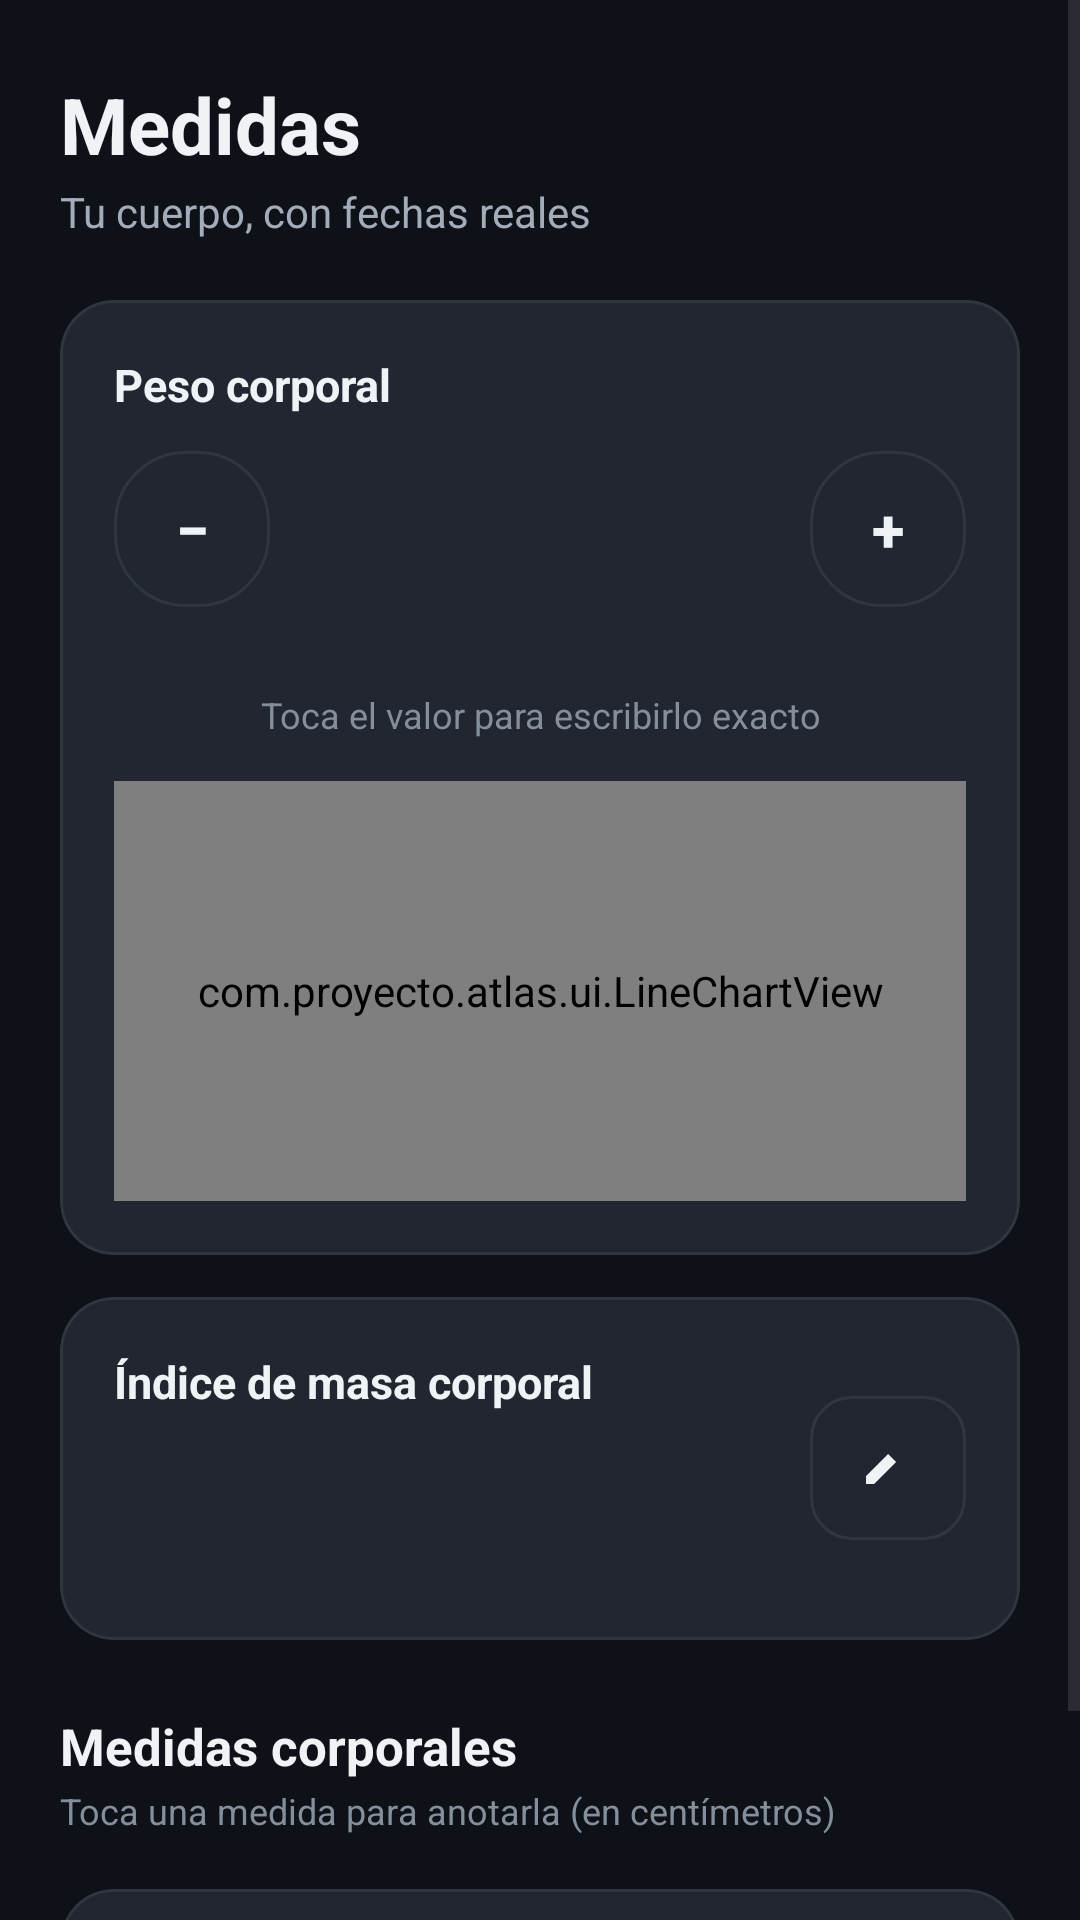

Icons on this 1080*1920 Android screen, each with the point to tap as (x=x, y=y):
edit: (x=881, y=1469)
